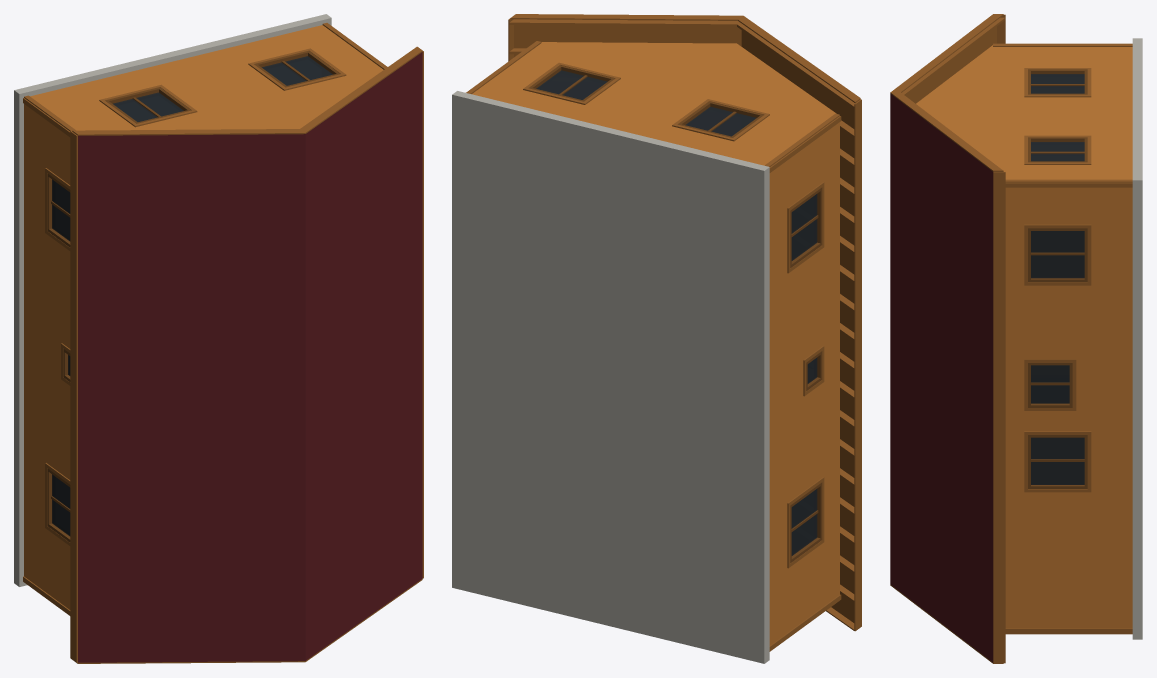
File: farm-cabin-6.5x10_3d.obj
3 views of the same model, side by side, from view 1: azimuth 30°, elevation 25°; view 2: azimuth 150°, elevation 25°; view 3: azimuth 270°, elevation 25° (orthographic). The views are drawn at different scales.
Parts seen in each view (by area): view 1: roof_tiles, wood, trim, slab, glass, frame; view 2: slab, wood, trim, sheathing, rafters, glass, frame; view 3: wood, roof_tiles, trim, glass, slab, frame, sheathing, rafters.
Boxes of the visible parts, box(x1,y1,x2,y2) form: roof_tiles: box(78, 52, 422, 662); wood: box(24, 25, 383, 609); trim: box(23, 23, 423, 663); slab: box(14, 14, 331, 586); glass: box(52, 56, 332, 536); frame: box(47, 51, 340, 542); slab: box(452, 91, 769, 663); wood: box(472, 42, 839, 645); trim: box(466, 14, 861, 651); sheathing: box(514, 19, 854, 622); rafters: box(509, 19, 854, 630); glass: box(536, 70, 817, 555); frame: box(529, 65, 822, 562); wood: box(916, 45, 1132, 628); roof_tiles: box(890, 93, 993, 662); trim: box(890, 14, 1132, 663); glass: box(1031, 74, 1084, 484); slab: box(1132, 38, 1142, 639); frame: box(1028, 69, 1087, 488); sheathing: box(906, 26, 996, 103); rafters: box(902, 17, 1005, 95).
Size of the model in its own units: 750 by 1093 by 506.
